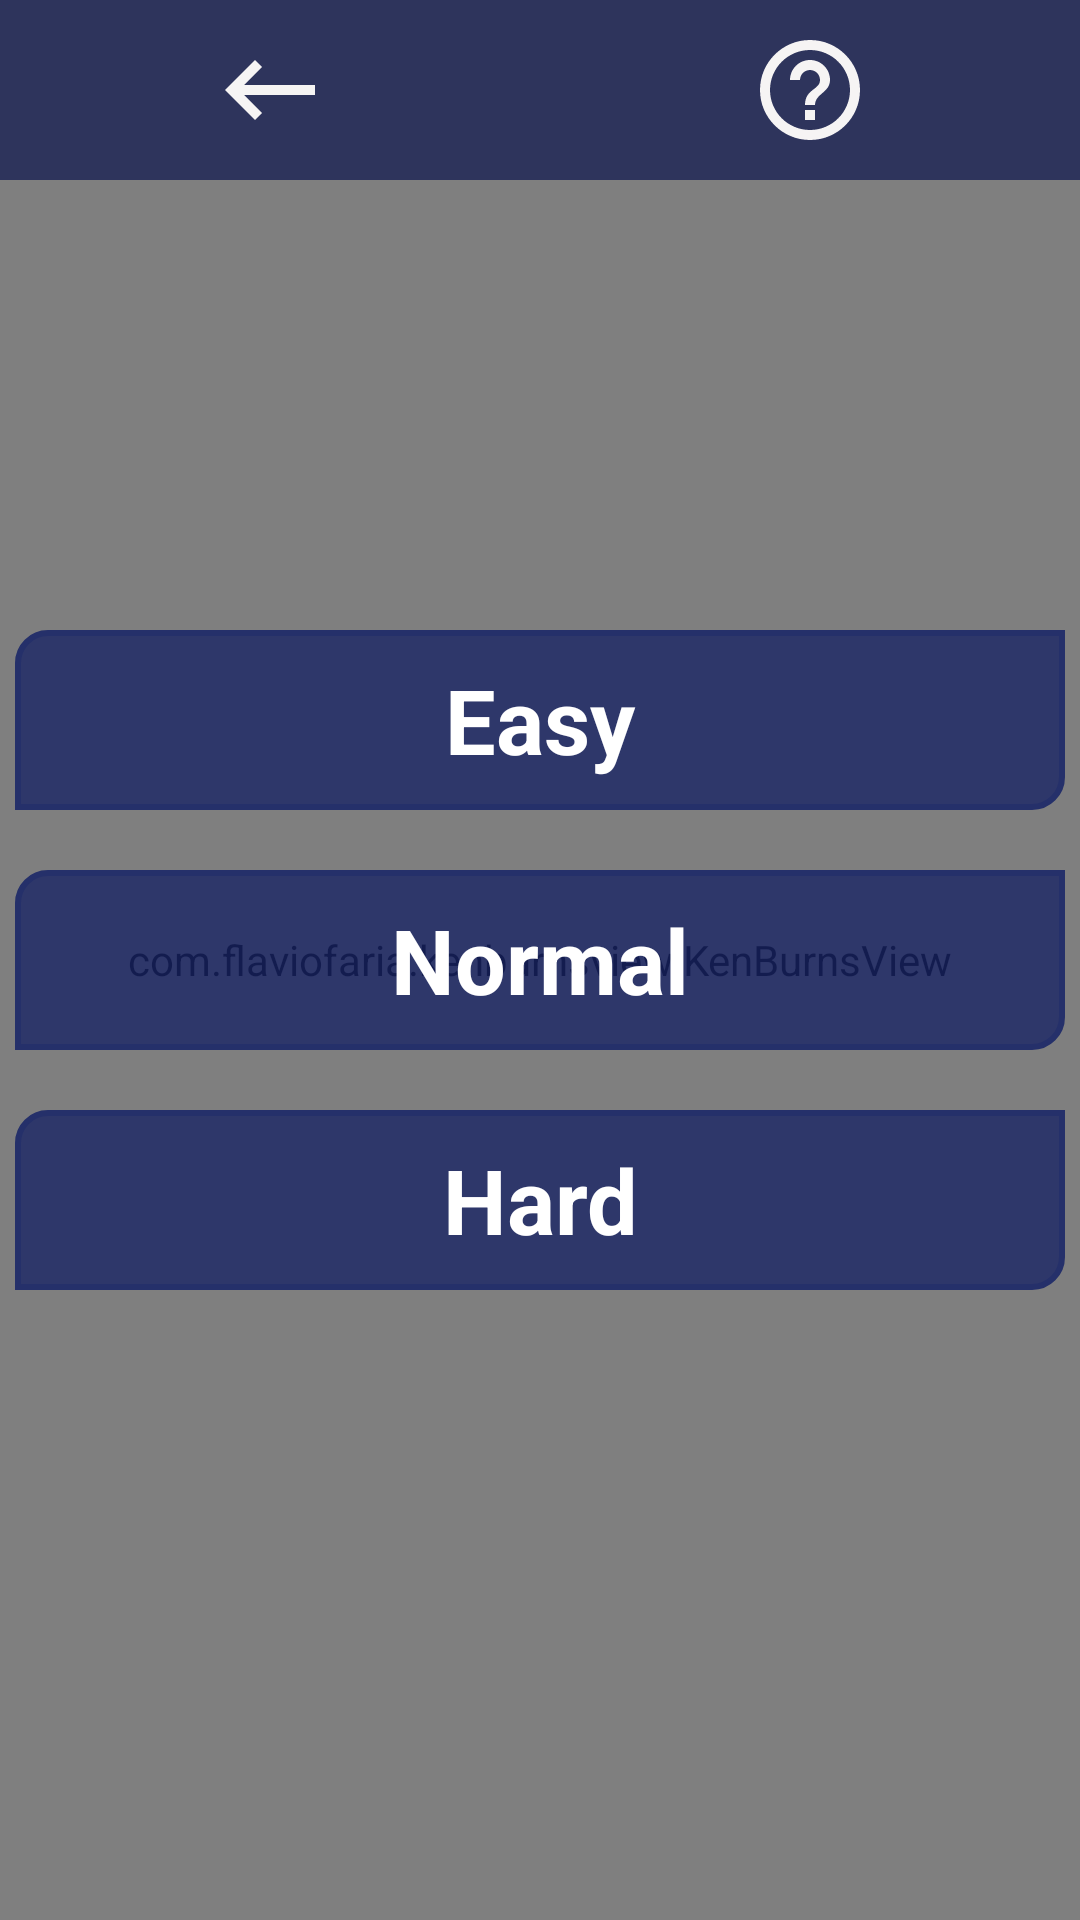

Where icons sit on this 1080px×1920px app screen, as [x1, y1, x2, y2]:
help: [760, 40, 860, 140]
keyboard backspace: [225, 60, 315, 120]
